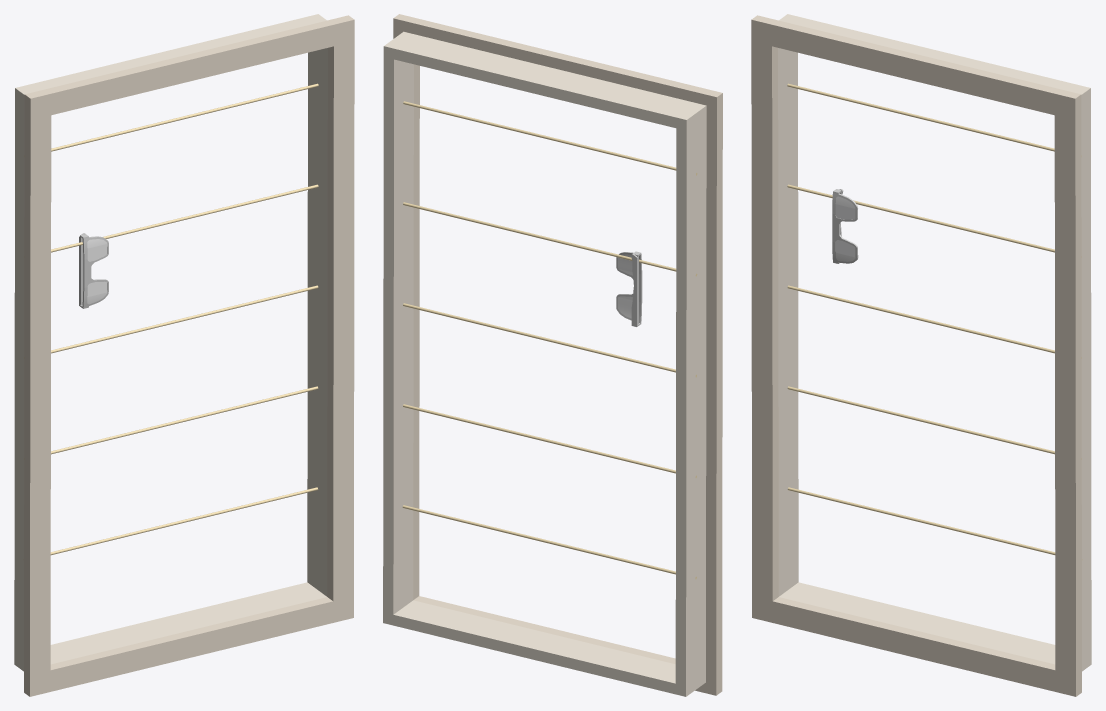
Rendered from sunglass-organizer.glb.
The picture shows the model from 3 angles, left to right: view 1: azimuth 30°, elevation 25°; view 2: azimuth 150°, elevation 25°; view 3: azimuth 330°, elevation 25°; orthographic projection.
Parts seen in each view (by area): view 1: Sunglass Organizer; view 2: Sunglass Organizer; view 3: Sunglass Organizer.
Boxes of the visible parts, left/top/right/bottom form: Sunglass Organizer: left=14, top=14, right=354, bottom=696; Sunglass Organizer: left=383, top=14, right=722, bottom=696; Sunglass Organizer: left=751, top=14, right=1091, bottom=696.
Bounding box in the file's own units: 59.69 × 105 × 8.47.
